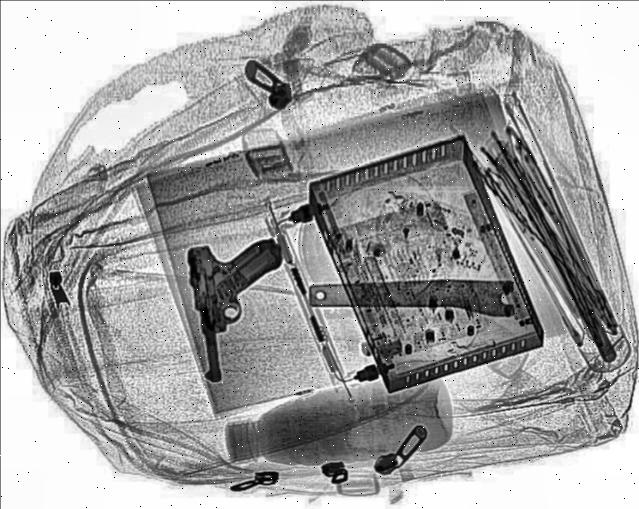Gun: (180, 236, 296, 382)
